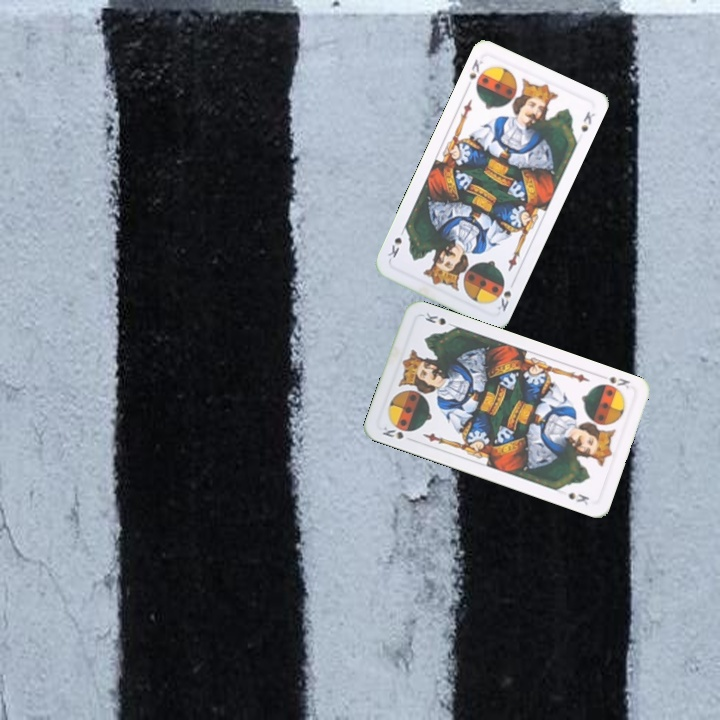SK: (492, 276, 514, 314), (465, 54, 487, 83), (378, 421, 406, 442), (605, 372, 633, 391)
